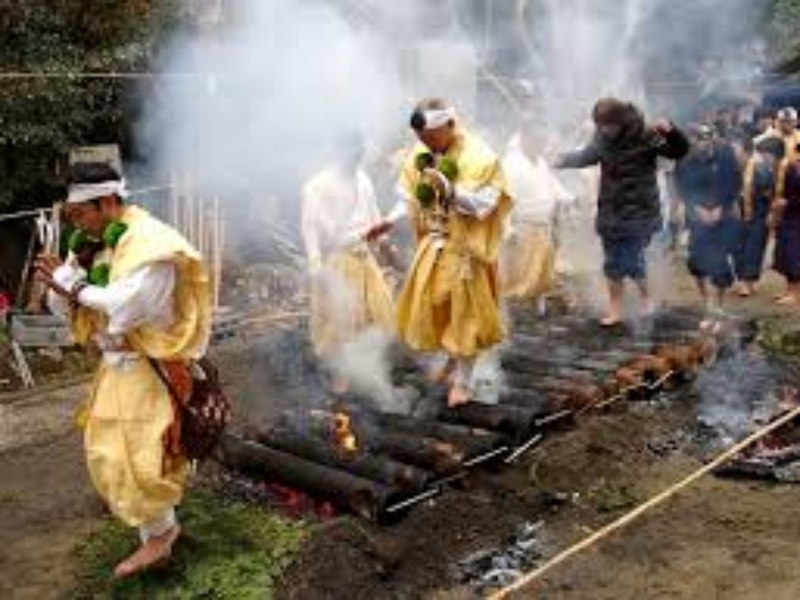smoke: (141, 1, 382, 383)
